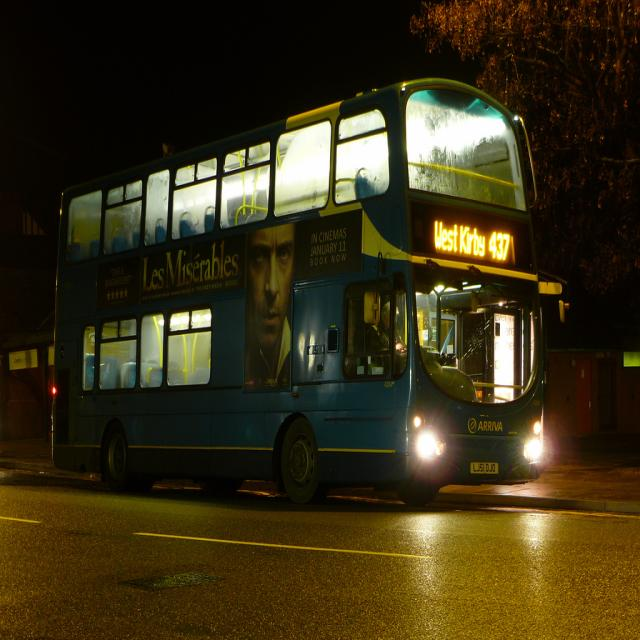Bus: (35, 77, 556, 528)
